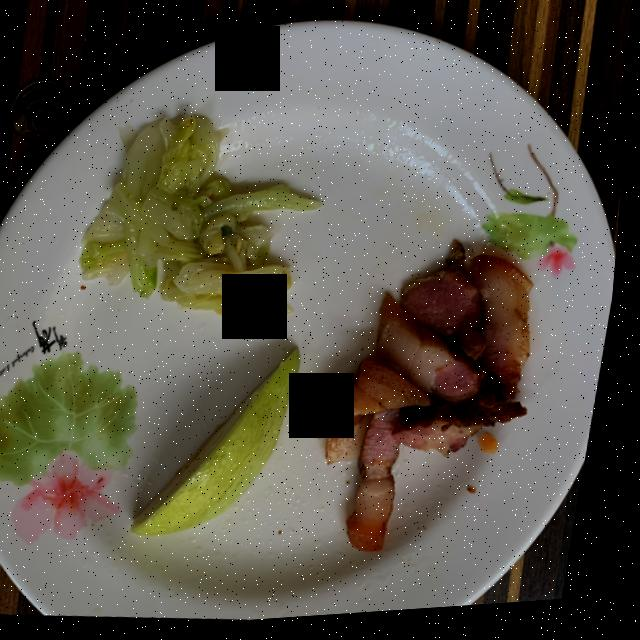cabbage: (84, 117, 324, 321)
coin: (12, 79, 72, 141)
grilled pork: (328, 253, 537, 556)
guava -sliced-: (140, 352, 306, 537)
